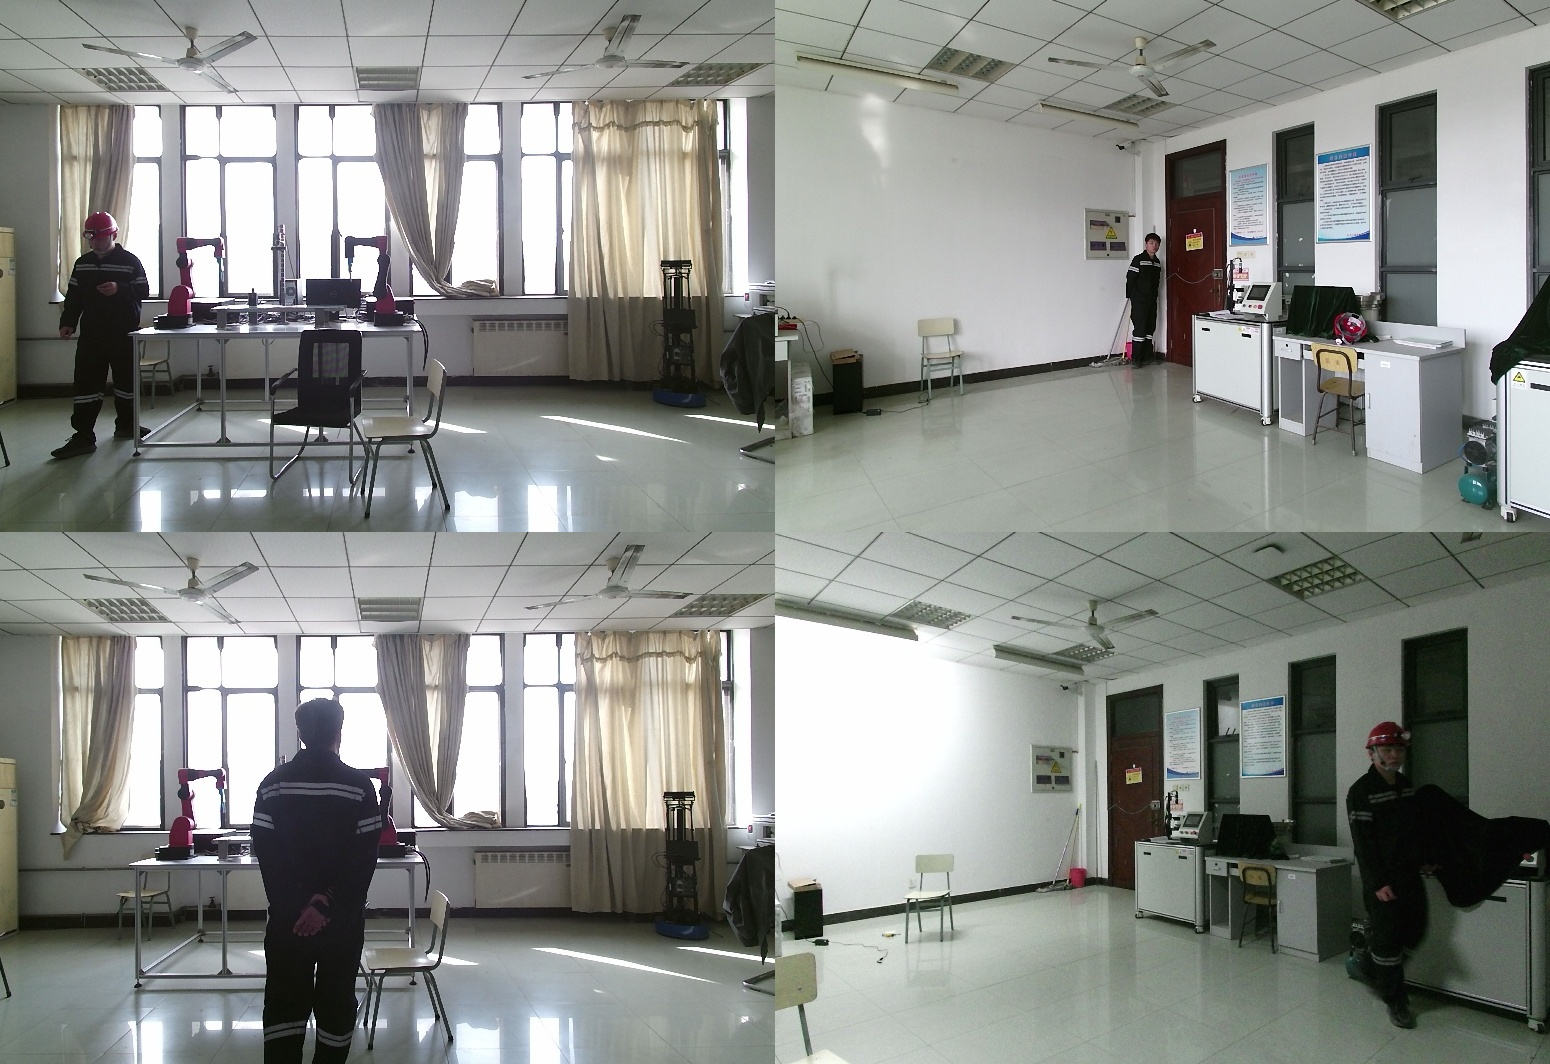person: (249, 699, 398, 1064), (1330, 722, 1431, 1032), (58, 215, 151, 459), (1125, 233, 1163, 372)
